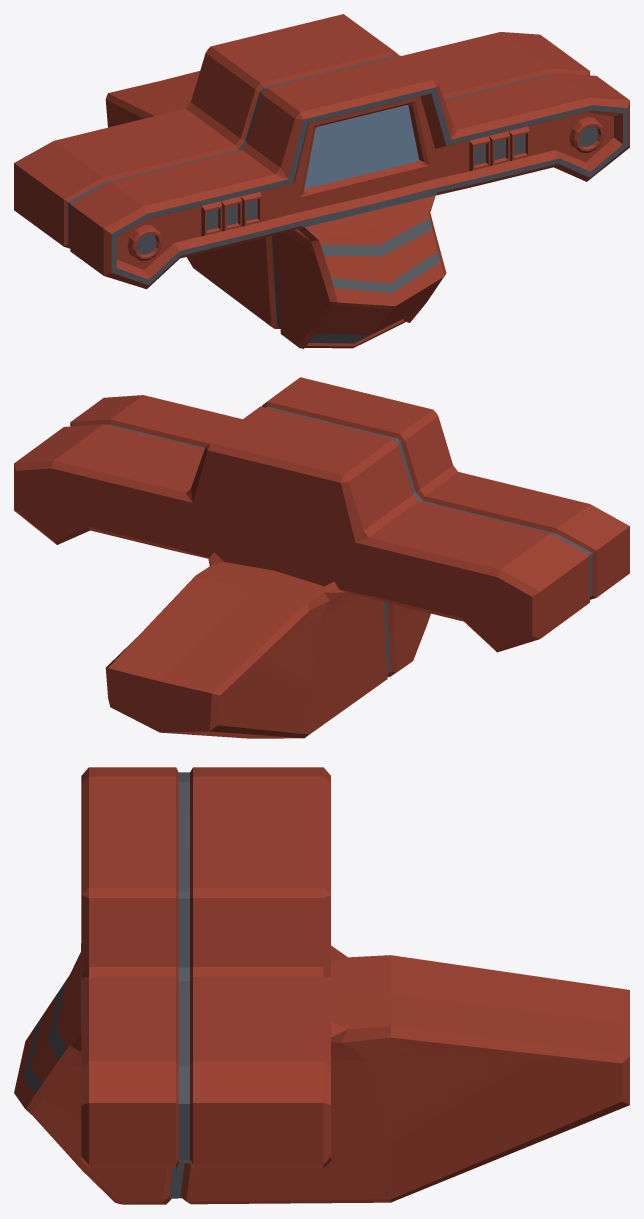
The model's file is Dropship_01_Front_Body_Red.fbx.
The picture shows the model from 3 angles, top to bottom: view 1: azimuth 30°, elevation 25°; view 2: azimuth 150°, elevation 25°; view 3: azimuth 270°, elevation 25°; orthographic projection. The views are drawn at different scales.
Visible parts, largest first — view 1: Dropship_01_Front_Body_Red; view 2: Dropship_01_Front_Body_Red; view 3: Dropship_01_Front_Body_Red.
Boxes of the visible parts, x1,y1,x2,y2 form: Dropship_01_Front_Body_Red: (14, 14, 629, 348); Dropship_01_Front_Body_Red: (14, 377, 629, 738); Dropship_01_Front_Body_Red: (14, 767, 629, 1204).
Bounding box in the file's own units: 1191 × 568 × 923.
Materials: 3 (3 with a texture image).
